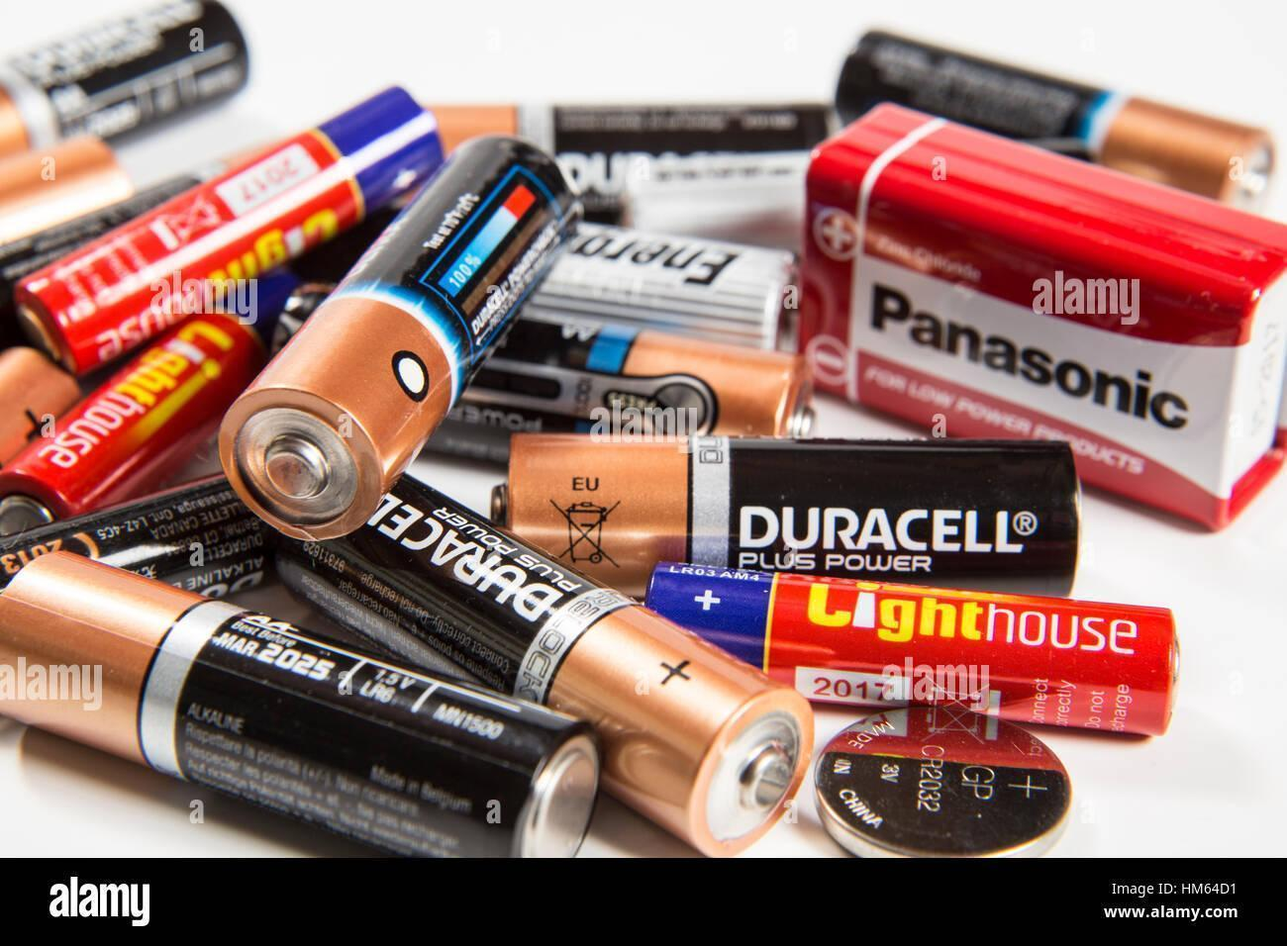AA: (0, 542, 609, 860), (214, 131, 586, 547), (10, 76, 453, 385), (485, 433, 1088, 608), (644, 554, 1189, 740)
COIN: (805, 704, 1079, 861)
